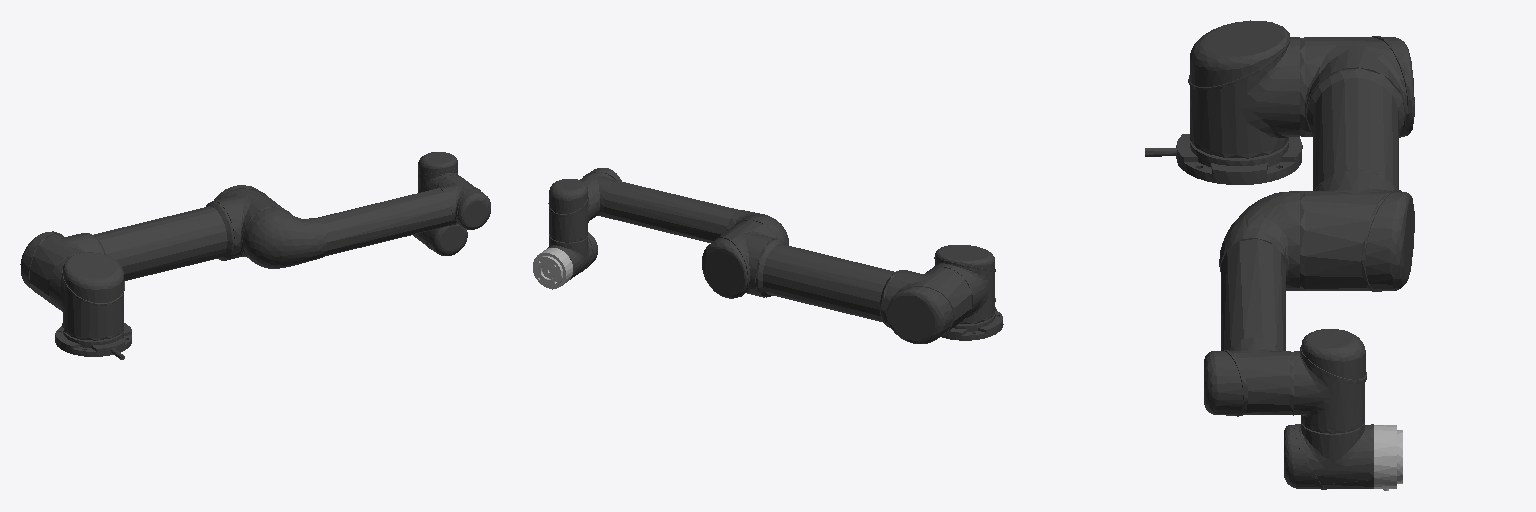
URDF robot description (robotiq_ur5):
<?xml version="1.0" ?>
<!-- =================================================================================== -->
<!-- |    This document was autogenerated by xacro from robitiq_ur5.urdf.xacro         | -->
<!-- |    EDITING THIS FILE BY HAND IS NOT RECOMMENDED                                 | -->
<!-- =================================================================================== -->
<robot name="robotiq_ur5" xmlns:xacro="http://ros.org/wiki/xacro">
  <material name="Black">
    <color rgba="0.3 0.3 0.3 1.0"/>
  </material>
  <material name="LightGrey">
    <color rgba="0.3 0.3 0.3 1.0"/>
  </material>

  <gazebo>
    <plugin filename="libgazebo_ros_control.so" name="ros_control">
      <!--robotNamespace>/</robotNamespace-->
      <!--robotSimType>gazebo_ros_control/DefaultRobotHWSim</robotSimType-->
    </plugin>
    <!--
    <plugin name="gazebo_ros_power_monitor_controller" filename="libgazebo_ros_power_monitor.so">
      <alwaysOn>true</alwaysOn>
      <updateRate>1.0</updateRate>
      <timeout>5</timeout>
      <powerStateTopic>power_state</powerStateTopic>
      <powerStateRate>10.0</powerStateRate>
      <fullChargeCapacity>87.78</fullChargeCapacity>     
      <dischargeRate>-474</dischargeRate>
      <chargeRate>525</chargeRate>
      <dischargeVoltage>15.52</dischargeVoltage>
      <chargeVoltage>16.41</chargeVoltage>
    </plugin>
-->
  </gazebo>
  <!-- measured from model -->
  <!--property name="shoulder_height" value="0.089159" /-->
  <!--property name="shoulder_offset" value="0.13585" /-->
  <!-- shoulder_offset - elbow_offset + wrist_1_length = 0.10915 -->
  <!--property name="upper_arm_length" value="0.42500" /-->
  <!--property name="elbow_offset" value="0.1197" /-->
  <!-- CAD measured -->
  <!--property name="forearm_length" value="0.39225" /-->
  <!--property name="wrist_1_length" value="0.093" /-->
  <!-- CAD measured -->
  <!--property name="wrist_2_length" value="0.09465" /-->
  <!-- In CAD this distance is 0.930, but in the spec it is 0.09465 -->
  <!--property name="wrist_3_length" value="0.0823" /-->
  <!-- manually measured -->
  <link name="base_link">
    <visual>
      <geometry>
        <mesh filename="./meshes/ur5/collision/base.stl"/>
      </geometry>
      <material name="LightGrey"/>
    </visual>
    <collision>
      <geometry>
        <mesh filename="./meshes/ur5/collision/base.stl"/>
      </geometry>
    </collision>
    <inertial>
      <mass value="4.0"/>
      <origin rpy="0 0 0" xyz="0.0 0.0 0.0"/>
      <inertia ixx="0.00443333156" ixy="0.0" ixz="0.0" iyy="0.00443333156" iyz="0.0" izz="0.0072"/>
    </inertial>
  </link>
  <joint name="shoulder_pan_joint" type="revolute">
    <parent link="base_link"/>
    <child link="shoulder_link"/>
    <origin rpy="0.0 0.0 0.0" xyz="0.0 0.0 0.089159"/>
    <axis xyz="0 0 1"/>
    <limit effort="150.0" lower="-3.141592653589793" upper="3.141592653589793" velocity="3.15"/>
    <dynamics damping="0.0" friction="0.0"/>
  </joint>
  <link name="shoulder_link">
    <visual>
      <geometry>
        <mesh filename="./meshes/ur5/collision/shoulder.stl"/>
      </geometry>
      <material name="LightGrey"/>
    </visual>
    <collision>
      <geometry>
        <mesh filename="./meshes/ur5/collision/shoulder.stl"/>
      </geometry>
    </collision>
    <inertial>
      <mass value="3.7"/>
      <origin rpy="0 0 0" xyz="0.0 0.0 0.0"/>
      <inertia ixx="0.010267495893" ixy="0.0" ixz="0.0" iyy="0.010267495893" iyz="0.0" izz="0.00666"/>
    </inertial>
  </link>
  <joint name="shoulder_lift_joint" type="revolute">
    <parent link="shoulder_link"/>
    <child link="upper_arm_link"/>
    <origin rpy="0.0 1.5707963267948966 0.0" xyz="0.0 0.13585 0.0"/>
    <axis xyz="0 1 0"/>
    <limit effort="150.0" lower="-3.141592653589793" upper="3.141592653589793" velocity="3.15"/>
    <dynamics damping="0.0" friction="0.0"/>
  </joint>
  <link name="upper_arm_link">
    <visual>
      <geometry>
        <mesh filename="./meshes/ur5/collision/upperarm.stl"/>
      </geometry>
      <material name="LightGrey"/>
    </visual>
    <collision>
      <geometry>
        <mesh filename="./meshes/ur5/collision/upperarm.stl"/>
      </geometry>
    </collision>
    <inertial>
      <mass value="8.393"/>
      <origin rpy="0 0 0" xyz="0.0 0.0 0.28"/>
      <inertia ixx="0.22689067591036005" ixy="0.0" ixz="0.0" iyy="0.22689067591036005" iyz="0.0" izz="0.0151074"/>
    </inertial>
  </link>
  <joint name="elbow_joint" type="revolute">
    <parent link="upper_arm_link"/>
    <child link="forearm_link"/>
    <origin rpy="0.0 0.0 0.0" xyz="0.0 -0.1197 0.425"/>
    <axis xyz="0 1 0"/>
    <limit effort="150.0" lower="-3.141592653589793" upper="3.141592653589793" velocity="3.15"/>
    <dynamics damping="0.0" friction="0.0"/>
  </joint>
  <link name="forearm_link">
    <visual>
      <geometry>
        <mesh filename="./meshes/ur5/collision/forearm.stl"/>
      </geometry>
      <material name="LightGrey"/>
    </visual>
    <collision>
      <geometry>
        <mesh filename="./meshes/ur5/collision/forearm.stl"/>
      </geometry>
    </collision>
    <inertial>
      <mass value="2.275"/>
      <origin rpy="0 0 0" xyz="0.0 0.0 0.25"/>
      <inertia ixx="0.04944331355599999" ixy="0.0" ixz="0.0" iyy="0.04944331355599999" iyz="0.0" izz="0.004095"/>
    </inertial>
  </link>
  <joint name="wrist_1_joint" type="revolute">
    <parent link="forearm_link"/>
    <child link="wrist_1_link"/>
    <origin rpy="0.0 1.5707963267948966 0.0" xyz="0.0 0.0 0.39225"/>
    <axis xyz="0 1 0"/>
    <limit effort="28.0" lower="-3.141592653589793" upper="3.141592653589793" velocity="3.2"/>
    <dynamics damping="0.0" friction="0.0"/>
  </joint>
  <link name="wrist_1_link">
    <visual>
      <geometry>
        <mesh filename="./meshes/ur5/collision/wrist1.stl"/>
      </geometry>
      <material name="LightGrey"/>
    </visual>
    <collision>
      <geometry>
        <mesh filename="./meshes/ur5/collision/wrist1.stl"/>
      </geometry>
    </collision>
    <inertial>
      <mass value="1.219"/>
      <origin rpy="0 0 0" xyz="0.0 0.0 0.0"/>
      <inertia ixx="0.11117275553087999" ixy="0.0" ixz="0.0" iyy="0.11117275553087999" iyz="0.0" izz="0.21942"/>
    </inertial>
  </link>
  <joint name="wrist_2_joint" type="revolute">
    <parent link="wrist_1_link"/>
    <child link="wrist_2_link"/>
    <origin rpy="0.0 0.0 0.0" xyz="0.0 0.093 0.0"/>
    <axis xyz="0 0 1"/>
    <limit effort="28.0" lower="-3.141592653589793" upper="3.141592653589793" velocity="3.2"/>
    <dynamics damping="0.0" friction="0.0"/>
  </joint>
  <link name="wrist_2_link">
    <visual>
      <geometry>
        <mesh filename="./meshes/ur5/collision/wrist2.stl"/>
      </geometry>
      <material name="LightGrey"/>
    </visual>
    <collision>
      <geometry>
        <mesh filename="./meshes/ur5/collision/wrist2.stl"/>
      </geometry>
    </collision>
    <inertial>
      <mass value="1.219"/>
      <origin rpy="0 0 0" xyz="0.0 0.0 0.0"/>
      <inertia ixx="0.11117275553087999" ixy="0.0" ixz="0.0" iyy="0.11117275553087999" iyz="0.0" izz="0.21942"/>
    </inertial>
  </link>
  <joint name="wrist_3_joint" type="revolute">
    <parent link="wrist_2_link"/>
    <child link="wrist_3_link"/>
    <origin rpy="0.0 0.0 0.0" xyz="0.0 0.0 0.09465"/>
    <axis xyz="0 1 0"/>
    <limit effort="28.0" lower="-3.141592653589793" upper="3.141592653589793" velocity="3.2"/>
    <dynamics damping="0.0" friction="0.0"/>
  </joint>
  <link name="wrist_3_link">
    <visual>
      <geometry>
        <mesh filename="./meshes/ur5/collision/wrist3.stl"/>
      </geometry>
      <material name="LightGrey">
        <color rgba="0.7 0.7 0.7 1.0"/>
      </material>
    </visual>
    <collision>
      <geometry>
        <mesh filename="./meshes/ur5/collision/wrist3.stl"/>
      </geometry>
    </collision>
    <inertial>
      <mass value="0.1879"/>
      <origin rpy="0 0 0" xyz="0.0 0.0 0.0"/>
      <inertia ixx="0.017136473145408" ixy="0.0" ixz="0.0" iyy="0.017136473145408" iyz="0.0" izz="0.033822"/>
    </inertial>
  </link>
  <joint name="ee_fixed_joint" type="fixed">
    <parent link="wrist_3_link"/>
    <child link="ee_link"/>
    <origin rpy="0.0 0.0 1.5707963267948966" xyz="0.0 0.0823 0.0"/>
  </joint>
  <link name="ee_link">
    <collision>
      <geometry>
        <box size="0.01 0.01 0.01"/>
      </geometry>
      <origin rpy="0 0 0" xyz="-0.01 0 0"/>
    </collision>
  </link>
  <transmission name="shoulder_pan_trans">
    <type>transmission_interface/SimpleTransmission</type>
    <joint name="shoulder_pan_joint">
      <hardwareInterface>hardware_interface/PositionJointInterface</hardwareInterface>
    </joint>
    <actuator name="shoulder_pan_motor">
      <mechanicalReduction>1</mechanicalReduction>
    </actuator>
  </transmission>
  <transmission name="shoulder_lift_trans">
    <type>transmission_interface/SimpleTransmission</type>
    <joint name="shoulder_lift_joint">
      <hardwareInterface>hardware_interface/PositionJointInterface</hardwareInterface>
    </joint>
    <actuator name="shoulder_lift_motor">
      <mechanicalReduction>1</mechanicalReduction>
    </actuator>
  </transmission>
  <transmission name="elbow_trans">
    <type>transmission_interface/SimpleTransmission</type>
    <joint name="elbow_joint">
      <hardwareInterface>hardware_interface/PositionJointInterface</hardwareInterface>
    </joint>
    <actuator name="elbow_motor">
      <mechanicalReduction>1</mechanicalReduction>
    </actuator>
  </transmission>
  <transmission name="wrist_1_trans">
    <type>transmission_interface/SimpleTransmission</type>
    <joint name="wrist_1_joint">
      <hardwareInterface>hardware_interface/PositionJointInterface</hardwareInterface>
    </joint>
    <actuator name="wrist_1_motor">
      <mechanicalReduction>1</mechanicalReduction>
    </actuator>
  </transmission>
  <transmission name="wrist_2_trans">
    <type>transmission_interface/SimpleTransmission</type>
    <joint name="wrist_2_joint">
      <hardwareInterface>hardware_interface/PositionJointInterface</hardwareInterface>
    </joint>
    <actuator name="wrist_2_motor">
      <mechanicalReduction>1</mechanicalReduction>
    </actuator>
  </transmission>
  <transmission name="wrist_3_trans">
    <type>transmission_interface/SimpleTransmission</type>
    <joint name="wrist_3_joint">
      <hardwareInterface>hardware_interface/PositionJointInterface</hardwareInterface>
    </joint>
    <actuator name="wrist_3_motor">
      <mechanicalReduction>1</mechanicalReduction>
    </actuator>
  </transmission>
  <!-- nothing to do here at the moment -->
  <!-- ROS base_link to UR 'Base' Coordinates transform -->
  <link name="base"/>
  <joint name="base_link-base_fixed_joint" type="fixed">
    <!-- NOTE: this rotation is only needed as long as base_link itself is
                 not corrected wrt the real robot (ie: rotated over 180
                 degrees)
      -->
    <origin rpy="0 0 -3.141592653589793" xyz="0 0 0"/>
    <parent link="base_link"/>
    <child link="base"/>
  </joint>
  <!-- Frame coincident with all-zeros TCP on UR controller -->
  <link name="tool0"/>
  <joint name="wrist_3_link-tool0_fixed_joint" type="fixed">
    <origin rpy="-1.5707963267948966 0 0" xyz="0 0.0823 0"/>
    <parent link="wrist_3_link"/>
    <child link="tool0"/>
  </joint>
  <link name="world"/>
  <joint name="world_joint" type="fixed">
    <parent link="world"/>
    <child link="base_link"/>
    <origin rpy="0.0 0.0 0.0" xyz="0.0 0.0 0.0"/>
  </joint>
  <!-- base -->
  <joint name="ee_link_gripper_base_joint" type="fixed">
    <origin rpy="0 1.5707963267948966 0" xyz="0 0 0"/>
    <parent link="ee_link"/>
    <child link="gripper_base"/>
  </joint>
  <link name="gripper_base">
    <!-- inertial>
				<mass value="0.1"/>
				<origin xyz="0 0 0.055"  />
				<cylinder_inertia radius="0.06" length="0.11" mass="0.1"/>
			</inertial -->
    <visual>
      <geometry>
        <mesh filename="./meshes/2f85/collision/base.stl" scale="0.001 0.001 0.001"/>
      </geometry>
      <material name="Black"/>
    </visual>
    <collision>
      <geometry>
        <mesh filename="./meshes/2f85/collision/base.stl" scale="0.001 0.001 0.001"/>
      </geometry>
    </collision>
  </link>
  <!-- right finger -->
  <joint name="gripper_right_driver_joint" type="revolute">
    <origin rpy="0 0 0" xyz="0 0.0306011 0.054904"/>
    <parent link="gripper_base"/>
    <child link="gripper_right_driver"/>
    <axis xyz="1 0 0"/>
    <limit effort="60" lower="0.0" upper="0.8726644444444445" velocity="1.919861777777778"/>
  </joint>
  <link name="gripper_right_driver">
    <!-- inertial>
				<mass value="0.1"/>
				<origin xyz="0 0 0.055"  />
				<cylinder_inertia radius="0.06" length="0.11" mass="0.1"/>
			</inertial -->
    <visual>
      <geometry>
        <mesh filename="./meshes/2f85/collision/driver.stl" scale="0.001 0.001 0.001"/>
      </geometry>
      <material name="Black"/>
    </visual>
    <collision>
      <geometry>
        <mesh filename="./meshes/2f85/collision/driver.stl" scale="0.001 0.001 0.001"/>
      </geometry>
    </collision>
  </link>
  <joint name="gripper_right_coupler_joint" type="fixed">
    <origin rpy="0 0 0" xyz="0 0.0315 -0.0041"/>
    <parent link="gripper_right_driver"/>
    <child link="gripper_right_coupler"/>
  </joint>
  <link name="gripper_right_coupler">
    <!-- inertial>
				<mass value="0.1"/>
				<origin xyz="0 0 0.055"  />
				<cylinder_inertia radius="0.06" length="0.11" mass="0.1"/>
			</inertial -->
    <visual>
      <geometry>
        <mesh filename="./meshes/2f85/collision/coupler.stl" scale="0.001 0.001 0.001"/>
      </geometry>
      <material name="Black"/>
    </visual>
    <collision>
      <geometry>
        <mesh filename="./meshes/2f85/collision/coupler.stl" scale="0.001 0.001 0.001"/>
      </geometry>
    </collision>
  </link>
  <joint name="gripper_right_follower_joint" type="revolute">
    <origin rpy="0 0 0" xyz="0 0.0061 0.0471"/>
    <parent link="gripper_right_coupler"/>
    <child link="gripper_right_follower"/>
    <axis xyz="1 0 0"/>
    <limit effort="176" lower="-2.9670591111111113" upper="2.9670591111111113" velocity="1.919861777777778"/>
    <mimic joint="gripper_right_driver_joint" multiplier="-1"/>
  </joint>
  <link name="gripper_right_follower">
    <visual>
      <geometry>
        <mesh filename="./meshes/2f85/collision/follower.stl" scale="0.001 0.001 0.001"/>
      </geometry>
      <material name="Black"/>
    </visual>
    <collision>
      <geometry>
        <mesh filename="./meshes/2f85/collision/follower.stl" scale="0.001 0.001 0.001"/>
      </geometry>
    </collision>
  </link>
  <joint name="gripper_right_pad_joint" type="fixed">
    <parent link="gripper_right_follower"/>
    <child link="gripper_right_pad"/>
  </joint>
  <link name="gripper_right_pad">
    <!-- inertial>
				<mass value="0.1"/>
				<origin xyz="0 0 0.055"  />
				<cylinder_inertia radius="0.06" length="0.11" mass="0.1"/>
			</inertial -->
    <visual>
      <geometry>
        <mesh filename="./meshes/2f85/collision/pad.stl" scale="0.001 0.001 0.001"/>
      </geometry>
      <material name="Black"/>
    </visual>
    <collision>
      <geometry>
        <mesh filename="./meshes/2f85/collision/pad.stl" scale="0.001 0.001 0.001"/>
      </geometry>
    </collision>
  </link>
  <joint name="gripper_right_spring_link_joint" type="revolute">
    <origin rpy="0 0 0" xyz="0 0.012 0.0614"/>
    <parent link="gripper_base"/>
    <child link="gripper_right_spring_link"/>
    <axis xyz="1 0 0"/>
    <limit effort="176" lower="-2.9670591111111113" upper="2.9670591111111113" velocity="1.919861777777778"/>
    <mimic joint="gripper_right_driver_joint" multiplier="1"/>
  </joint>
  <link name="gripper_right_spring_link">
    <!-- inertial>
				<mass value="0.1"/>
				<origin xyz="0 0 0.055"  />
				<cylinder_inertia radius="0.06" length="0.11" mass="0.1"/>
			</inertial -->
    <visual>
      <geometry>
        <mesh filename="./meshes/2f85/collision/spring_link.stl" scale="0.001 0.001 0.001"/>
      </geometry>
      <material name="Black"/>
    </visual>
    <collision>
      <geometry>
        <mesh filename="./meshes/2f85/collision/spring_link.stl" scale="0.001 0.001 0.001"/>
      </geometry>
    </collision>
  </link>
  <!-- left finger -->
  <joint name="gripper_left_driver_joint" type="revolute">
    <origin rpy="0 0 3.141592653589793" xyz="0 -0.0306011 0.054904"/>
    <parent link="gripper_base"/>
    <child link="gripper_left_driver"/>
    <axis xyz="1 0 0"/>
    <limit effort="176" lower="0.0" upper="0.7155848444444445" velocity="1.919861777777778"/>
    <mimic joint="gripper_right_driver_joint" multiplier="1"/>
  </joint>
  <link name="gripper_left_driver">
    <!-- inertial>
				<mass value="0.1"/>
				<origin xyz="0 0 0.055"  />
				<cylinder_inertia radius="0.06" length="0.11" mass="0.1"/>
			</inertial -->
    <visual>
      <geometry>
        <mesh filename="./meshes/2f85/collision/driver.stl" scale="0.001 0.001 0.001"/>
      </geometry>
      <material name="Black"/>
    </visual>
    <collision>
      <geometry>
        <mesh filename="./meshes/2f85/collision/driver.stl" scale="0.001 0.001 0.001"/>
      </geometry>
    </collision>
  </link>
  <joint name="gripper_left_coupler_joint" type="fixed">
    <origin rpy="0 0 0" xyz="0 0.0315 -0.0041"/>
    <parent link="gripper_left_driver"/>
    <child link="gripper_left_coupler"/>
  </joint>
  <link name="gripper_left_coupler">
    <!-- inertial>
				<mass value="0.1"/>
				<origin xyz="0 0 0.055"  />
				<cylinder_inertia radius="0.06" length="0.11" mass="0.1"/>
			</inertial -->
    <visual>
      <geometry>
        <mesh filename="./meshes/2f85/collision/coupler.stl" scale="0.001 0.001 0.001"/>
      </geometry>
      <material name="Black"/>
    </visual>
    <collision>
      <geometry>
        <mesh filename="./meshes/2f85/collision/coupler.stl" scale="0.001 0.001 0.001"/>
      </geometry>
    </collision>
  </link>
  <joint name="gripper_left_follower_joint" type="revolute">
    <origin rpy="0 0 0" xyz="0 0.0061 0.0471"/>
    <parent link="gripper_left_coupler"/>
    <child link="gripper_left_follower"/>
    <axis xyz="1 0 0"/>
    <limit effort="176" lower="-2.9670591111111113" upper="2.9670591111111113" velocity="1.919861777777778"/>
    <mimic joint="gripper_right_driver_joint" multiplier="-1"/>
  </joint>
  <link name="gripper_left_follower">
    <visual>
      <geometry>
        <mesh filename="./meshes/2f85/collision/follower.stl" scale="0.001 0.001 0.001"/>
      </geometry>
      <material name="Black"/>
    </visual>
    <collision>
      <geometry>
        <mesh filename="./meshes/2f85/collision/follower.stl" scale="0.001 0.001 0.001"/>
      </geometry>
    </collision>
  </link>
  <joint name="gripper_left_pad_joint" type="fixed">
    <parent link="gripper_left_follower"/>
    <child link="gripper_left_pad"/>
  </joint>
  <link name="gripper_left_pad">
    <!-- inertial>
				<mass value="0.1"/>
				<origin xyz="0 0 0.055"  />
				<cylinder_inertia radius="0.06" length="0.11" mass="0.1"/>
			</inertial -->
    <visual>
      <geometry>
        <mesh filename="./meshes/2f85/collision/pad.stl" scale="0.001 0.001 0.001"/>
      </geometry>
      <material name="Black"/>
    </visual>
    <collision>
      <geometry>
        <mesh filename="./meshes/2f85/collision/pad.stl" scale="0.001 0.001 0.001"/>
      </geometry>
    </collision>
  </link>
  <joint name="gripper_left_spring_link_joint" type="revolute">
    <origin rpy="0 0 3.141592653589793" xyz="0 -0.012 0.0614"/>
    <parent link="gripper_base"/>
    <child link="gripper_left_spring_link"/>
    <axis xyz="1 0 0"/>
    <limit effort="176" lower="-2.9670591111111113" upper="2.9670591111111113" velocity="1.919861777777778"/>
    <mimic joint="gripper_right_driver_joint" multiplier="1"/>
  </joint>
  <link name="gripper_left_spring_link">
    <!-- inertial>
				<mass value="0.1"/>
				<origin xyz="0 0 0.055"  />
				<cylinder_inertia radius="0.06" length="0.11" mass="0.1"/>
			</inertial -->
    <visual>
      <geometry>
        <mesh filename="./meshes/2f85/collision/spring_link.stl" scale="0.001 0.001 0.001"/>
      </geometry>
      <material name="Black"/>
    </visual>
    <collision>
      <geometry>
        <mesh filename="./meshes/2f85/collision/spring_link.stl" scale="0.001 0.001 0.001"/>
      </geometry>
    </collision>
  </link>
  <transmission name="gripper_right_driver_trans">
    <type>transmission_interface/SimpleTransmission</type>
    <joint name="gripper_right_driver_joint">
      <hardwareInterface>hardware_interface/PositionJointInterface</hardwareInterface>
    </joint>
    <actuator name="gripper_right_driver_motor">
      <mechanicalReduction>1</mechanicalReduction>
    </actuator>
  </transmission>
</robot>

--- Facts derived from the render (not from the file) ---
3 views of the same robot in one strip: view 1: azimuth 30°, elevation 25°; view 2: azimuth 150°, elevation 25°; view 3: azimuth 270°, elevation 25° (orthographic).
Robot: robotiq_ur5 — 22 links, 21 joints (12 revolute, 9 fixed); root link world; default pose: all joints at 0.
Links seen in each view (by area): view 1: upper_arm_link, forearm_link, shoulder_link, base_link, wrist_1_link, wrist_2_link; view 2: upper_arm_link, forearm_link, shoulder_link, wrist_1_link, wrist_3_link, wrist_2_link, base_link; view 3: upper_arm_link, forearm_link, shoulder_link, wrist_1_link, wrist_2_link, base_link, wrist_3_link.
Link boxes in pixels (x1,y1,x2,y2): upper_arm_link: (20, 185, 288, 307); forearm_link: (243, 175, 490, 268); shoulder_link: (49, 252, 124, 340); base_link: (55, 323, 131, 359); wrist_1_link: (418, 152, 458, 192); wrist_2_link: (413, 224, 467, 255); upper_arm_link: (702, 220, 971, 343); forearm_link: (580, 168, 788, 245); shoulder_link: (932, 245, 995, 323); wrist_1_link: (548, 179, 596, 242); wrist_3_link: (533, 248, 572, 289); wrist_2_link: (547, 232, 597, 279); base_link: (942, 298, 1003, 340); upper_arm_link: (1300, 36, 1414, 291); forearm_link: (1204, 191, 1299, 416); shoulder_link: (1188, 20, 1299, 158); wrist_1_link: (1294, 329, 1366, 433); wrist_2_link: (1284, 423, 1373, 489); base_link: (1145, 134, 1302, 184); wrist_3_link: (1374, 425, 1402, 490).
Size in the robot's own frame: 0.9299 by 0.3144 by 0.2061 metres.
8 mesh visuals loaded from 13 distinct referenced files (7 binary STL); not drawn: 10 (reference not matched to a file when rendering).